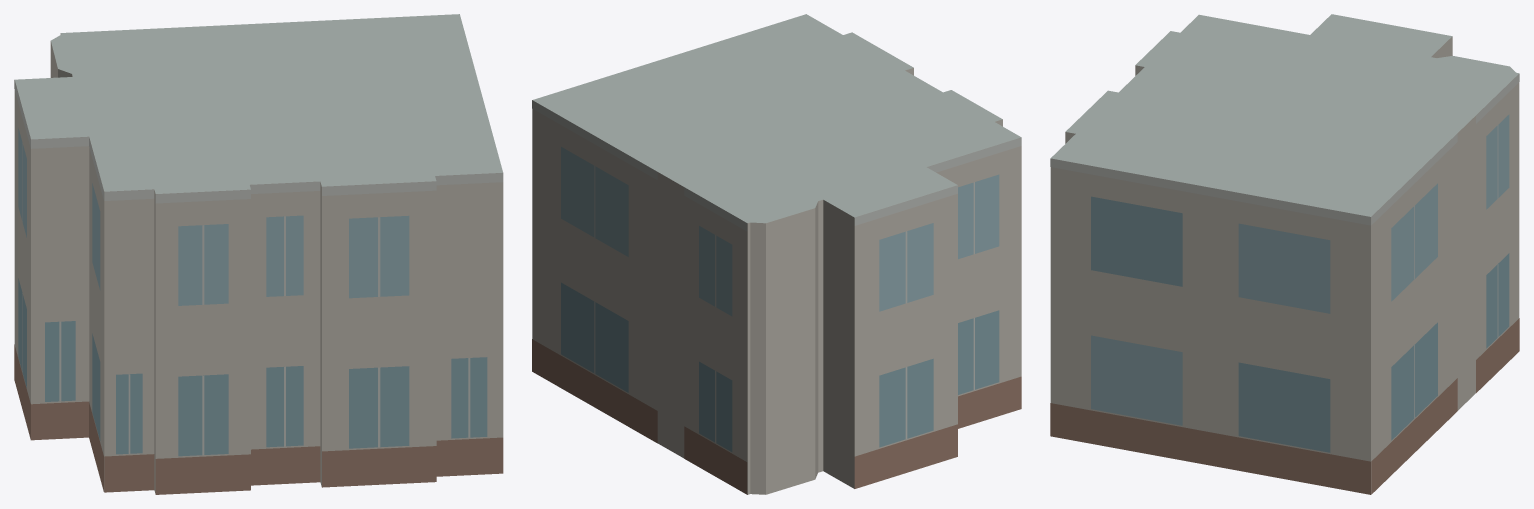
File: survey-upis-32734389.glb
The picture shows the model from 3 angles, left to right: view 1: azimuth 30°, elevation 25°; view 2: azimuth 150°, elevation 25°; view 3: azimuth 270°, elevation 25°; orthographic projection. The views are drawn at different scales.
Parts seen in each view (by area): view 1: survey-upis-32734389.tmp; view 2: survey-upis-32734389.tmp; view 3: survey-upis-32734389.tmp.
Part boxes in pixels (x1,y1,x2,y2): survey-upis-32734389.tmp: (14,14,503,494); survey-upis-32734389.tmp: (532,14,1021,494); survey-upis-32734389.tmp: (1050,14,1519,494).
Bounding box in the file's own units: 12.23 × 7.8 × 11.94.
